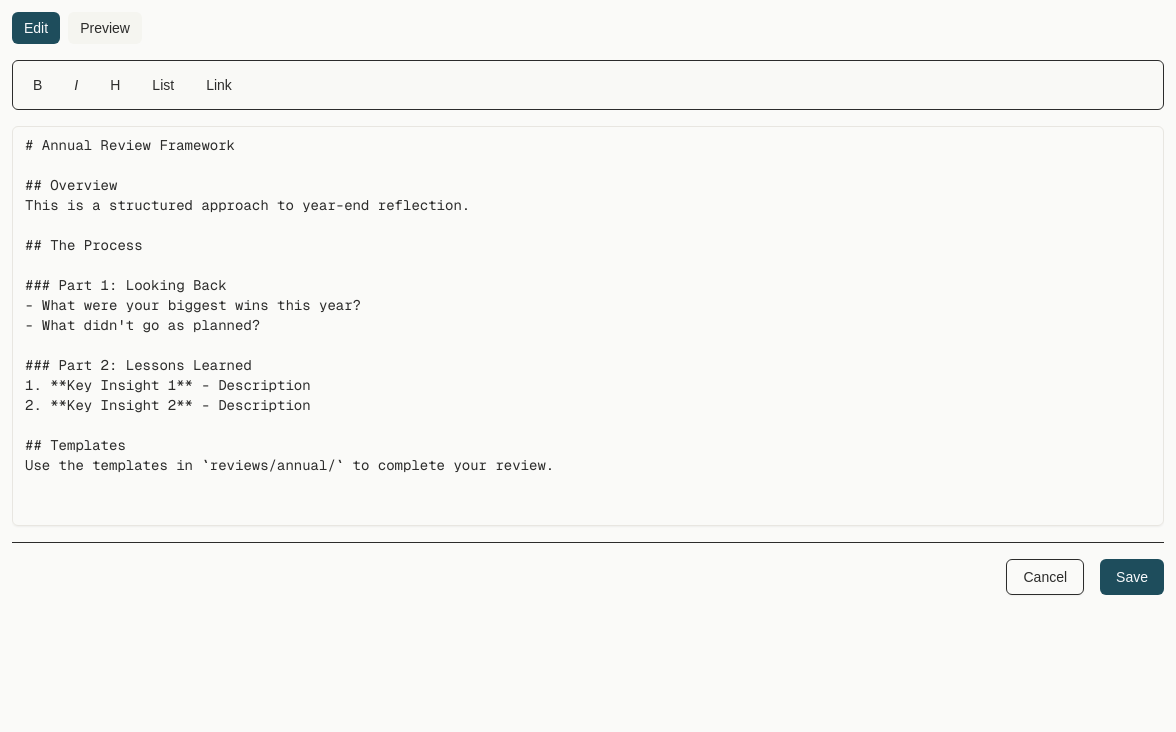
AC3: FrameworkEditor Component › Save Functionality (AC3) › should show loading indicator while saving
The image size is (1176, 732).
Step 1. Click the button "Save" → (1132, 577), box [1100,559,1164,595]
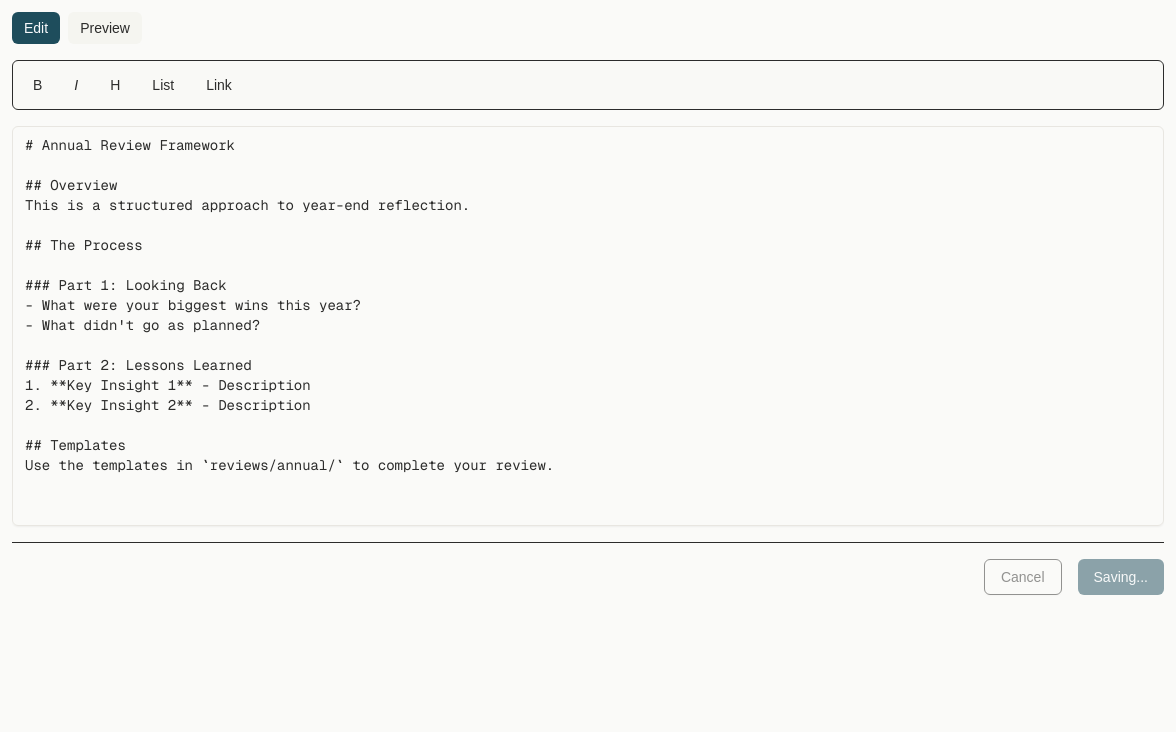
Now the button "Saving..." is shown, box [1078,559,1164,595]
